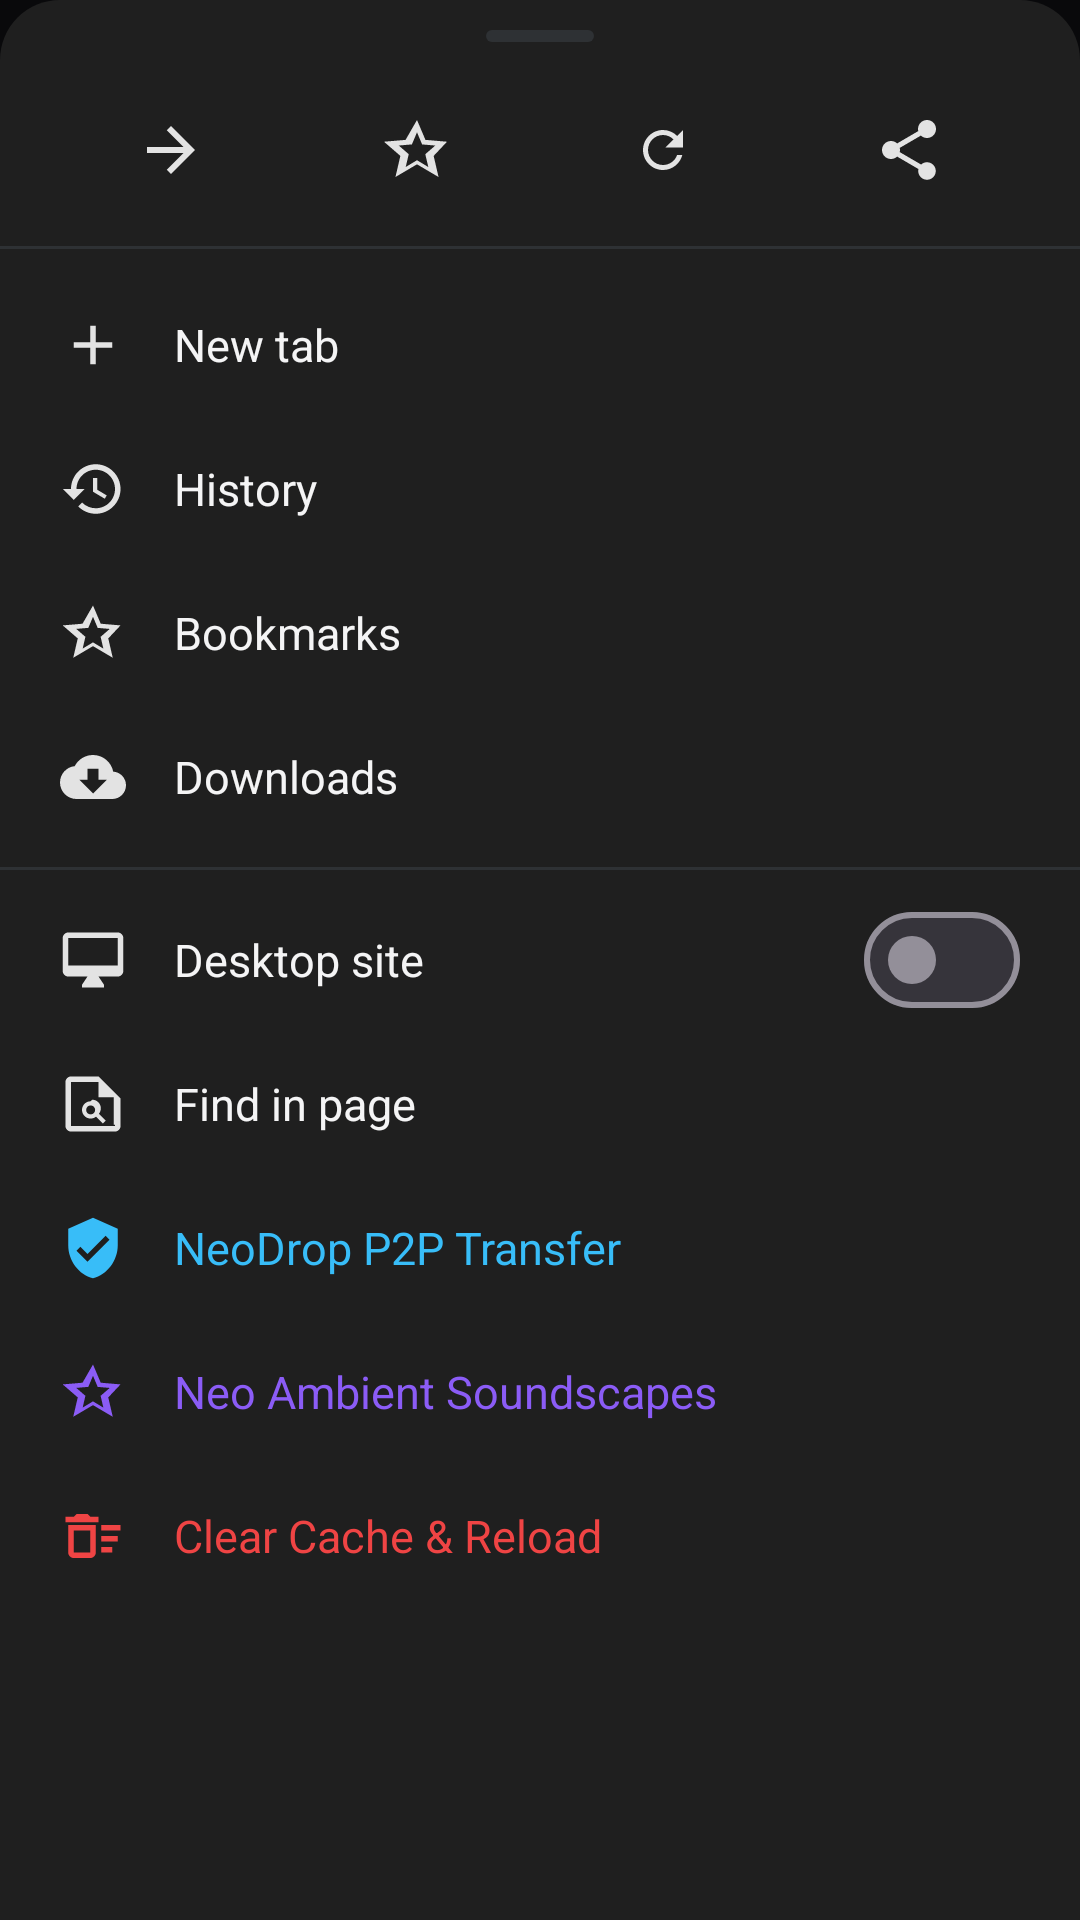

Where to tap for icons on this 1080 × 1920 app screen, as [x,y]:
add: [93,345]
arrow forward: [171,150]
delete sweep: [93,1536]
refresh: [663,150]
share: [909,150]
star: [415,148], [92,632], [92,1391]
